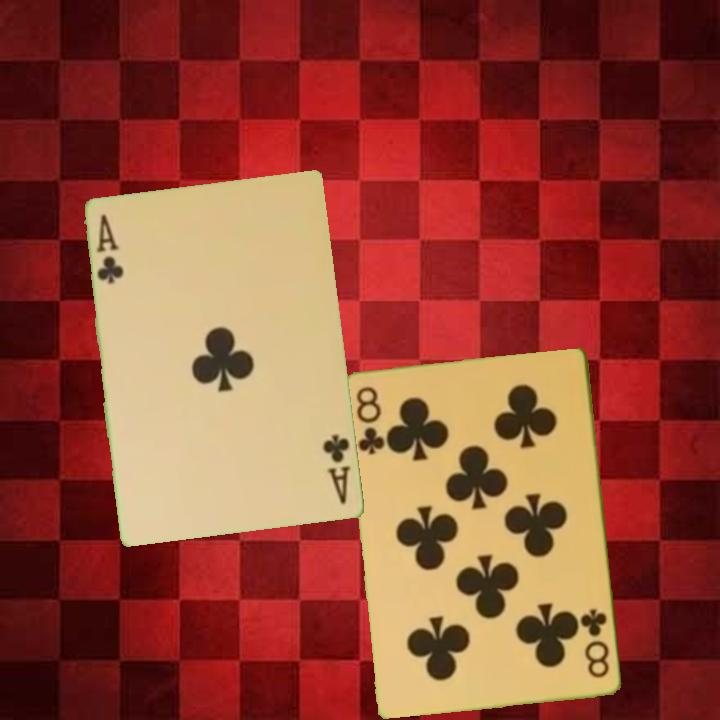8c: (577, 606, 613, 682), (353, 383, 388, 458)
Ac: (320, 431, 354, 508), (93, 211, 125, 287)
